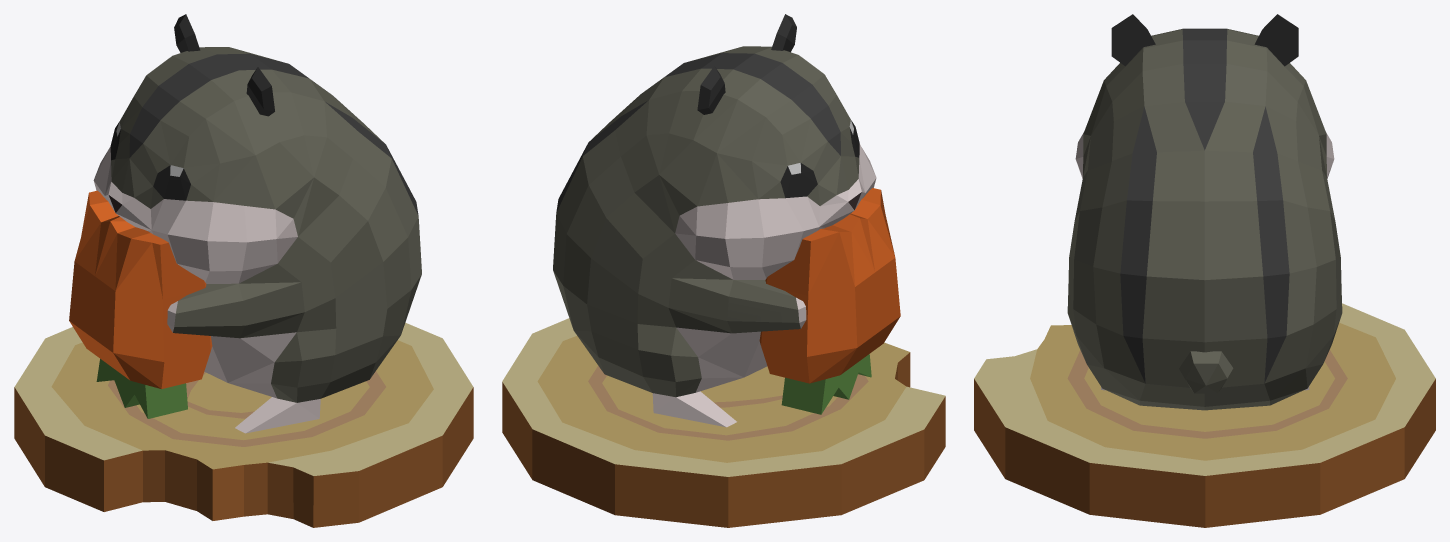
Rendered from 00202_CuteHamsterEatingCarrot.fbx.
3 views of the same model, side by side, from view 1: azimuth 30°, elevation 25°; view 2: azimuth 150°, elevation 25°; view 3: azimuth 270°, elevation 25° (orthographic).
Parts seen in each view (by area): view 1: hamster, log, carrot; view 2: hamster, log, carrot; view 3: hamster, log.
Boxes of the visible parts, x1,y1,x2,y2 form: hamster: (93, 14, 421, 433); log: (14, 322, 473, 527); carrot: (69, 190, 212, 418); hamster: (553, 14, 876, 427); log: (502, 318, 945, 527); carrot: (759, 188, 900, 414); hamster: (1067, 14, 1342, 410); log: (974, 303, 1435, 527).
Bounding box in the file's own units: 2.91 × 2.82 × 2.91.
